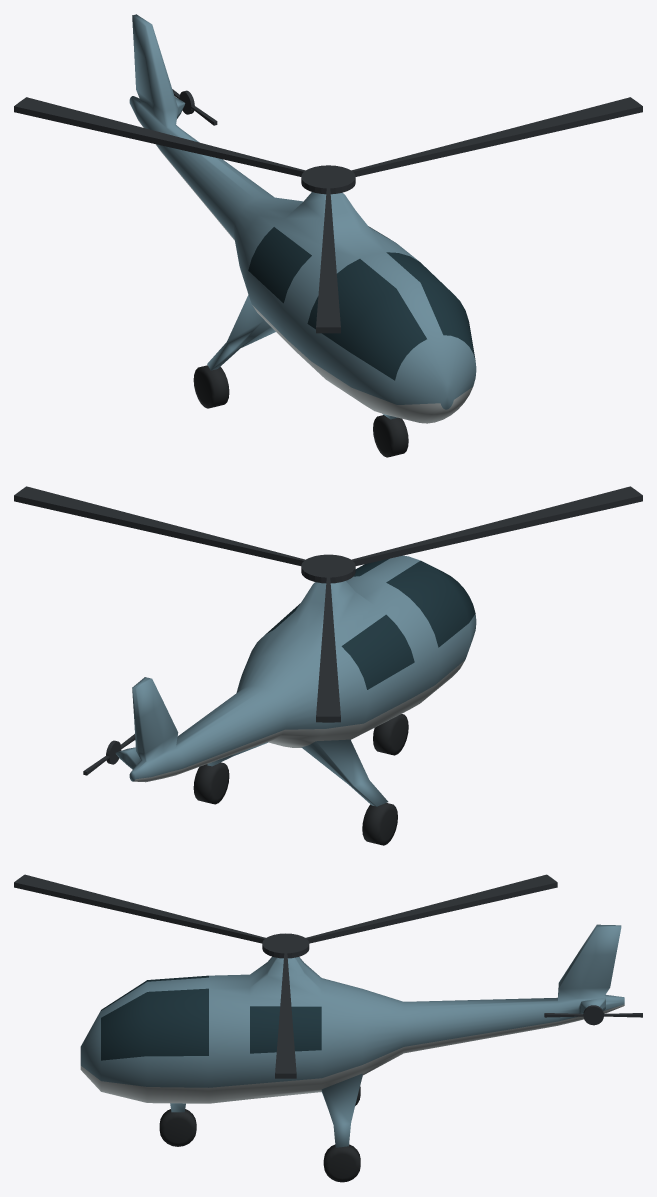
Rendered from A-NEW-20261027-HELICOPTER-001_LOD2_R1.fbx.
3 renders of one model, top to bottom at view 1: azimuth 30°, elevation 25°; view 2: azimuth 150°, elevation 25°; view 3: azimuth 270°, elevation 25°, orthographic. The views are drawn at different scales.
Parts seen in each view (by area): view 1: original helicopter cabin tail boom mast and fixed gear, original static three blade main rotor, original helicopter fixed wheel 2, original helicopter fixed wheel 0; view 2: original helicopter cabin tail boom mast and fixed gear, original static three blade main rotor, original helicopter fixed wheel 2, original helicopter fixed wheel 1, original helicopter fixed wheel 0, generic unseen two blade tail rotor; view 3: original helicopter cabin tail boom mast and fixed gear, original static three blade main rotor, original helicopter fixed wheel 1, original helicopter fixed wheel 0, generic unseen two blade tail rotor.
Part boxes in pixels (box(x1,y1,x2,y2)): original helicopter cabin tail boom mast and fixed gear: box(129, 14, 476, 423); original static three blade main rotor: box(14, 97, 642, 333); original helicopter fixed wheel 2: box(193, 365, 229, 408); original helicopter fixed wheel 0: box(373, 415, 408, 457); original helicopter cabin tail boom mast and fixed gear: box(115, 555, 476, 806); original static three blade main rotor: box(14, 486, 642, 722); original helicopter fixed wheel 2: box(362, 803, 397, 845); original helicopter fixed wheel 1: box(193, 762, 229, 804); original helicopter fixed wheel 0: box(373, 714, 408, 755); generic unseen two blade tail rotor: box(83, 734, 135, 775); original helicopter cabin tail boom mast and fixed gear: box(80, 924, 624, 1147); original static three blade main rotor: box(14, 874, 557, 1078); original helicopter fixed wheel 1: box(323, 1144, 360, 1182); original helicopter fixed wheel 0: box(159, 1109, 196, 1146); generic unseen two blade tail rotor: box(544, 1005, 642, 1025).
Size of the model in its own units: 459 by 234 by 613.
